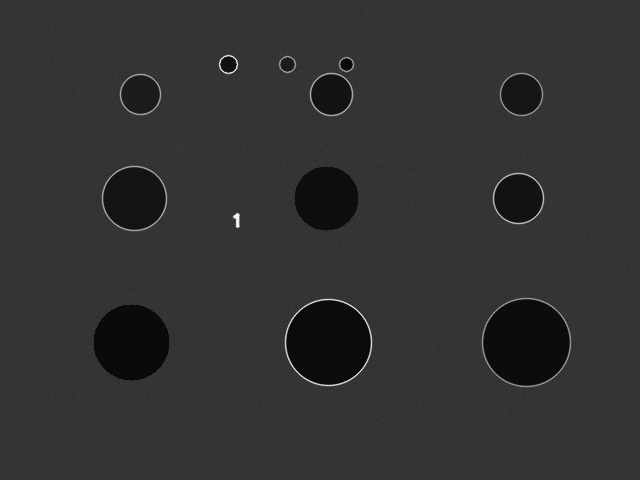hole: (482, 298, 570, 386), (285, 299, 371, 385), (93, 304, 169, 380), (102, 166, 166, 230), (294, 166, 358, 230), (493, 173, 543, 223), (310, 73, 352, 115), (500, 73, 542, 115), (120, 74, 160, 114), (219, 55, 237, 73), (279, 56, 295, 72), (339, 57, 353, 71)
